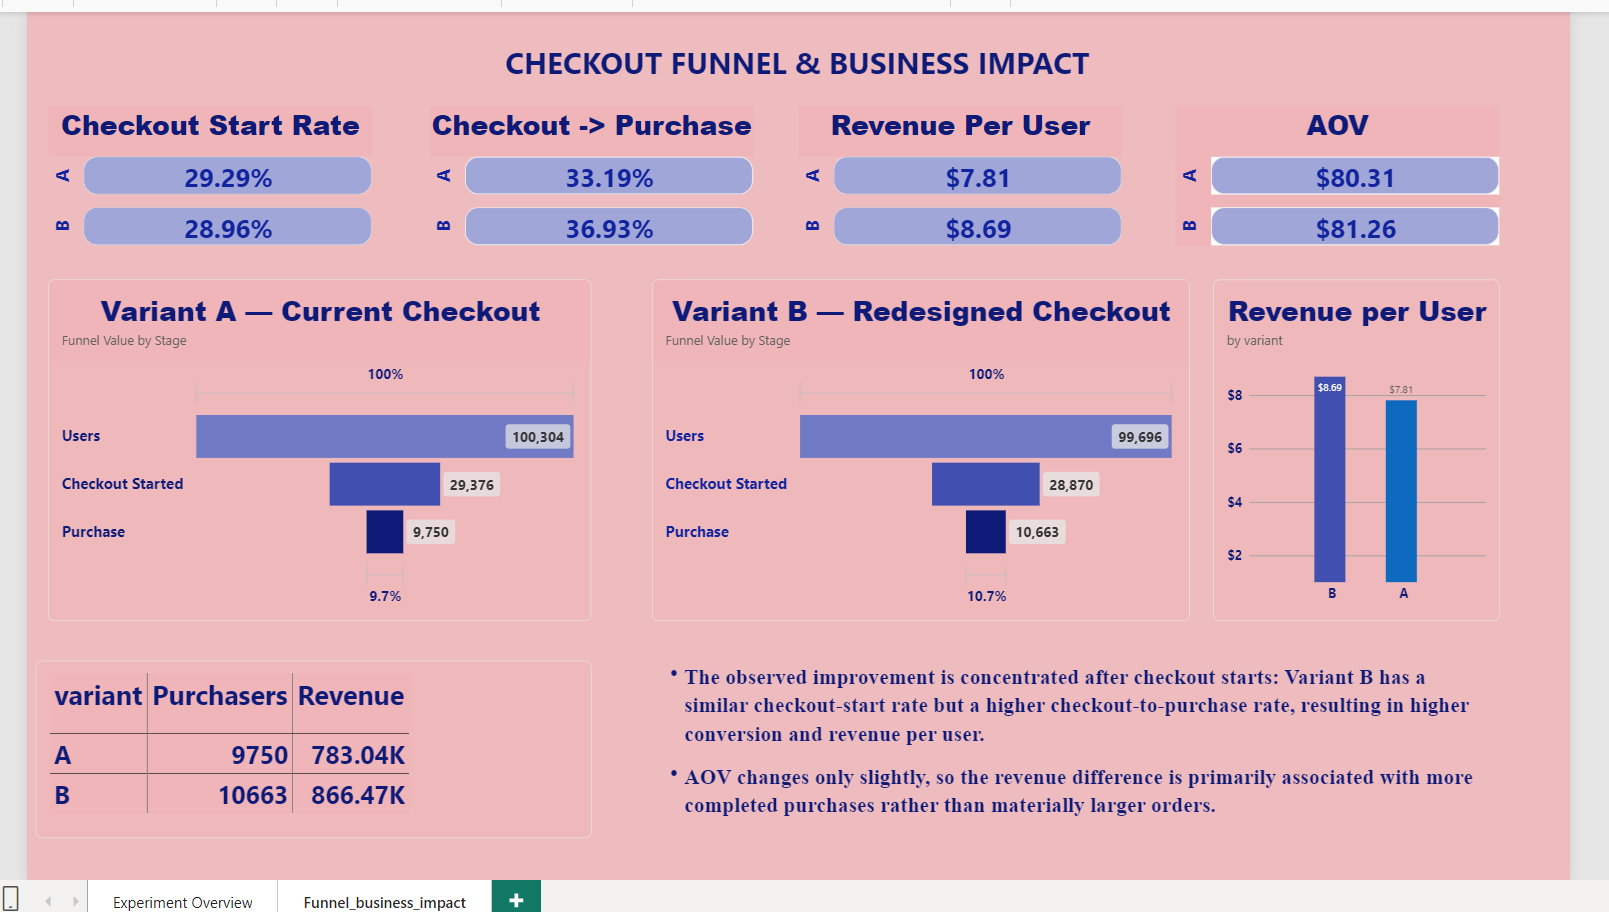

What the dashboard file says about the page in this screenshot:
{"tool":"powerbi","page":{"name":"Funnel_business_impact","canvas":[1920,1080],"ordinal":1},"visuals":[{"type":"textbox","box":[10.5,0,1894.2,116.9],"z":0},{"type":"cardVisual","title":"Checkout Start Rate","fields":{"Data":["_measures.Checkout Start Rate"],"Rows":["Experiment_data.variant"]},"box":[26.2,116.9,402.9,174.4],"z":1000},{"type":"cardVisual","title":"AOV","fields":{"Data":["_measures.AOV"],"Rows":["Experiment_data.variant"]},"box":[1428.5,116.9,402.9,174.4],"z":2000},{"type":"cardVisual","title":"Revenue Per User","fields":{"Data":["_measures.Revenue per User"],"Rows":["Experiment_data.variant"]},"box":[959.3,116.9,402.9,174.4],"z":3000},{"type":"cardVisual","title":"Checkout -> Purchase","fields":{"Data":["_measures.Checkout to Purchase Rate"],"Rows":["Experiment_data.variant"]},"box":[500.6,116.9,402.9,174.4],"z":4000},{"type":"clusteredColumnChart","fields":{"Category":["Experiment_data.variant"],"Y":["_measures.Revenue per User"]},"box":[1475.4,333.3,356.1,424.6],"z":5000},{"type":"funnel","title":"Variant A — Current Checkout","fields":{"Category":["FunnelStage.Stage"],"Y":["_measures.Funnel Value"]},"box":[26.3,333.3,675.4,424.6],"z":6000},{"type":"funnel","title":"Variant B — Redesigned Checkout","fields":{"Category":["FunnelStage.Stage"],"Y":["_measures.Funnel Value"]},"box":[777.2,333.3,668.4,424.6],"z":7000},{"type":"tableEx","fields":{"Values":["Experiment_data.variant","_measures.Purchasers","_measures.Revenue"]},"box":[10.5,807,691.2,221.1],"z":7001},{"type":"textbox","box":[777.2,807,1033.3,221.1],"z":7002}]}

Visuals, with their boxes on the page's 1920x1080 design canvas (x1, y1, x2, y2). These are canvas units, not pixel positions in the 1609x912 screenshot, which may show the page scaled, cropped or inside an application window:
textbox: select_region(10, 0, 1905, 117)
"Checkout Start Rate" cardVisual: select_region(26, 117, 429, 291)
"AOV" cardVisual: select_region(1428, 117, 1831, 291)
"Revenue Per User" cardVisual: select_region(959, 117, 1362, 291)
"Checkout -> Purchase" cardVisual: select_region(501, 117, 904, 291)
clusteredColumnChart - Experiment_data.variant x _measures.Revenue per User: select_region(1475, 333, 1832, 758)
"Variant A — Current Checkout" funnel: select_region(26, 333, 702, 758)
"Variant B — Redesigned Checkout" funnel: select_region(777, 333, 1446, 758)
tableEx - Experiment_data.variant x _measures.Purchasers: select_region(10, 807, 702, 1028)
textbox: select_region(777, 807, 1810, 1028)
